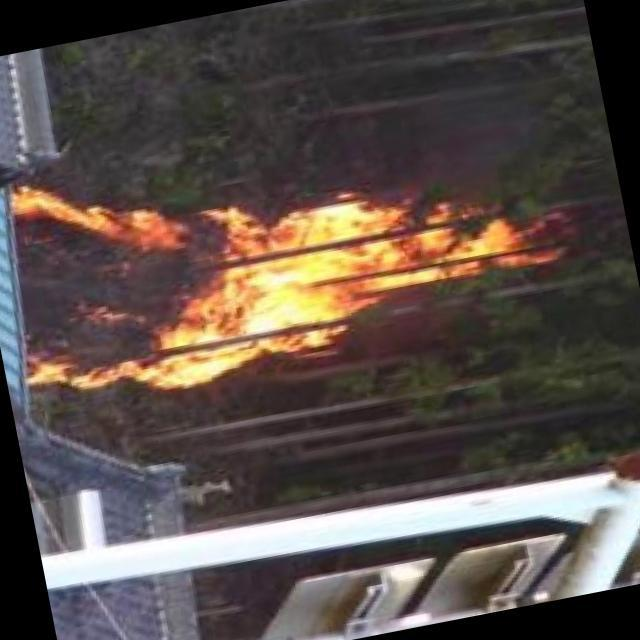Fire: (1, 98, 589, 410)
